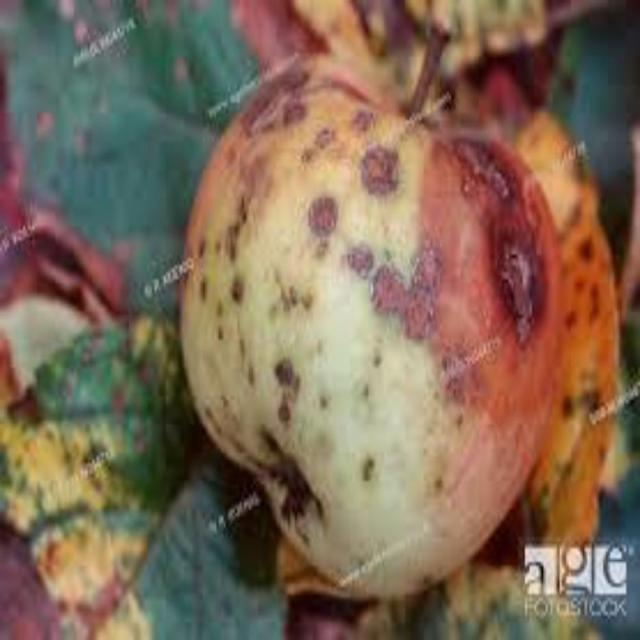Rotten Apple: (181, 50, 546, 594)
